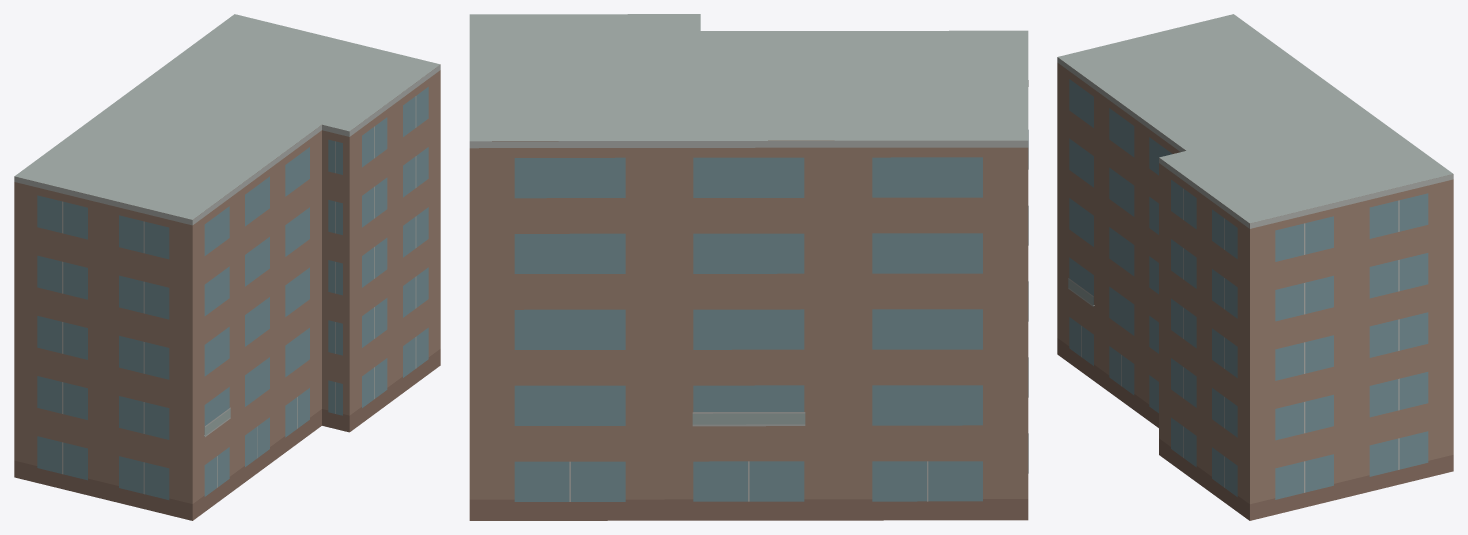
The model's file is survey-upis-32933752.glb.
3 renders of one model, left to right at view 1: azimuth 30°, elevation 25°; view 2: azimuth 150°, elevation 25°; view 3: azimuth 270°, elevation 25°, orthographic. The views are drawn at different scales.
Parts seen in each view (by area): view 1: survey-upis-32933752.tmp; view 2: survey-upis-32933752.tmp; view 3: survey-upis-32933752.tmp.
Boxes of the visible parts, x1,y1,x2,y2 form: survey-upis-32933752.tmp: [14, 14, 440, 520]; survey-upis-32933752.tmp: [469, 14, 1028, 520]; survey-upis-32933752.tmp: [1057, 14, 1453, 520].
Size of the model in its own units: 19.95 by 13.2 by 15.94.
